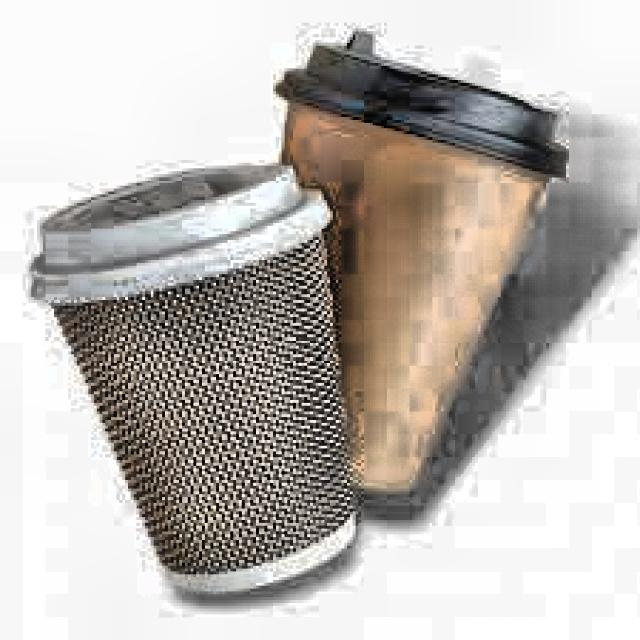Cup: (28, 146, 371, 600), (249, 60, 567, 508)
